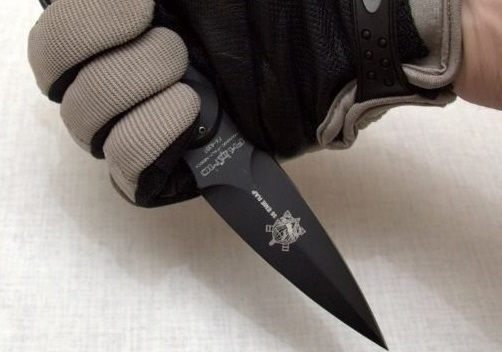knife: (51, 24, 392, 352)
